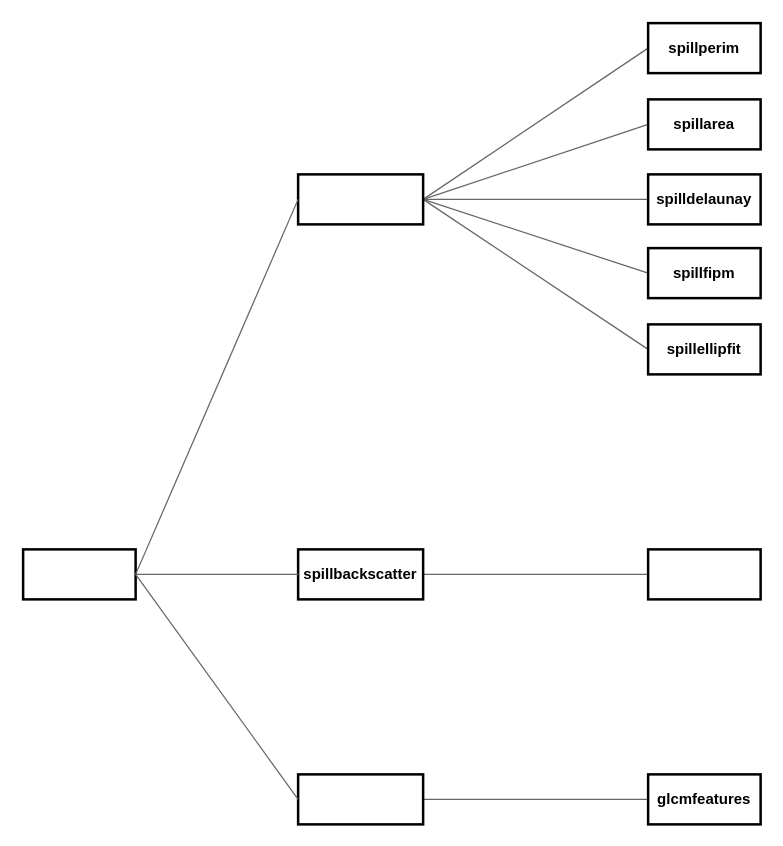
Some shapes in this 783 by 846 pixel diagram are drawn without their labels. Each missing label, with the box of its shape:
spillfeatures: (21, 548, 136, 600)
spillgeom: (296, 172, 424, 225)
spillgradient: (646, 548, 761, 600)
spilltexture: (296, 772, 424, 825)
